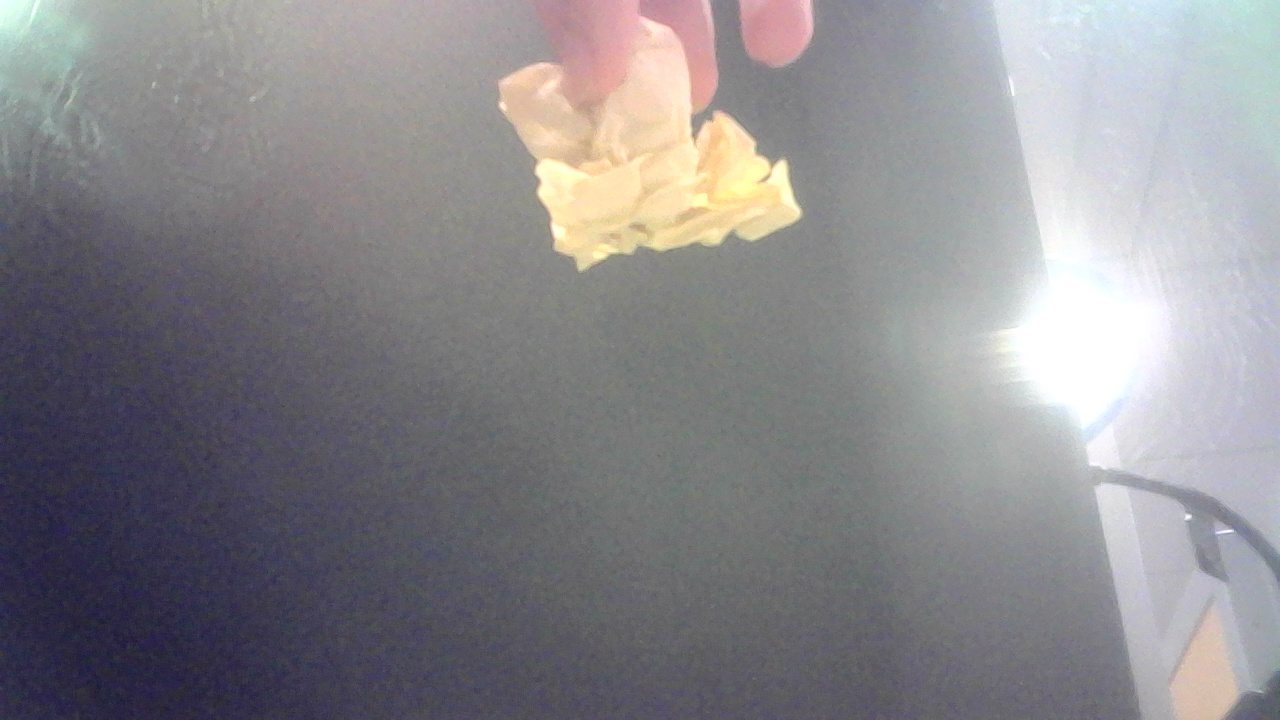Paper_Recycling: (493, 26, 821, 280)
